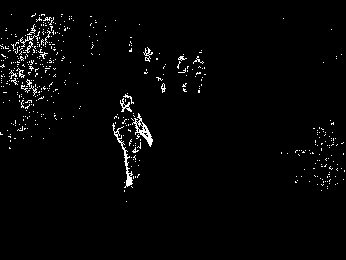person: (110, 91, 156, 201)
